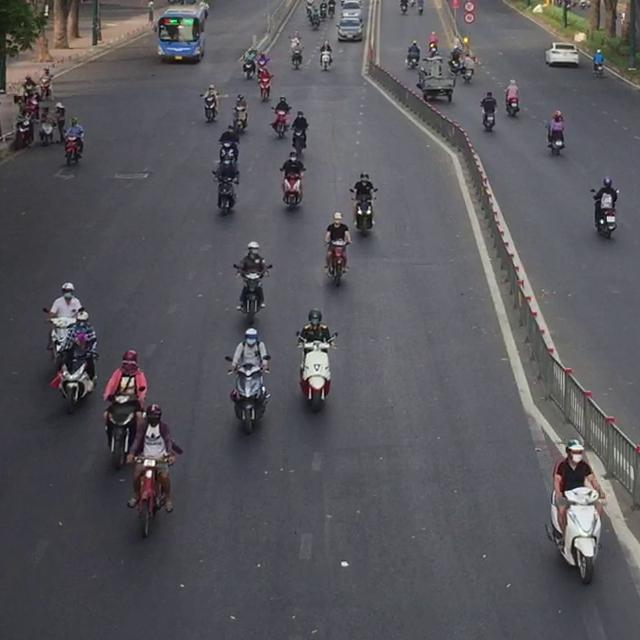Motorcycle: (544, 485, 606, 584), (126, 445, 182, 538), (224, 355, 271, 434), (295, 329, 338, 413), (51, 350, 99, 414), (103, 395, 143, 470), (232, 262, 272, 325), (42, 307, 76, 363), (590, 188, 618, 239), (349, 186, 378, 235), (323, 239, 351, 287), (211, 168, 239, 215), (279, 166, 305, 208), (545, 121, 565, 156), (63, 132, 83, 166), (269, 106, 290, 138), (199, 92, 220, 122), (217, 140, 238, 166), (290, 125, 307, 157), (479, 101, 496, 131), (257, 70, 273, 101), (231, 103, 248, 132), (503, 88, 519, 116), (241, 55, 256, 79), (290, 43, 303, 69), (319, 47, 332, 71)
